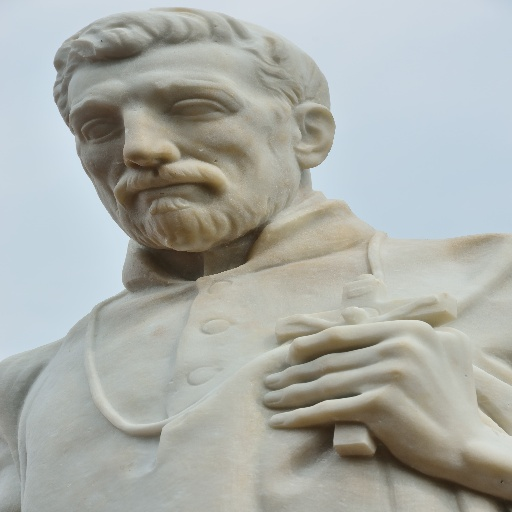hand: (227, 292, 500, 496)
